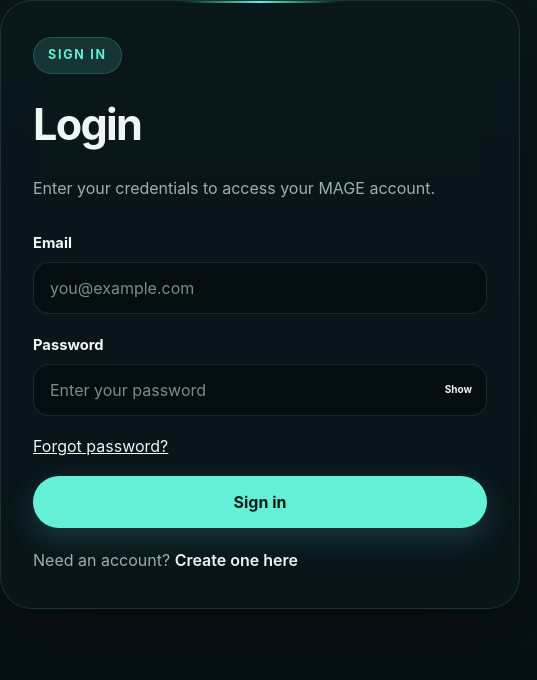
Scenario: LoginPage › shows backend invalid-credential errors clearly to the user
In the field labelled "Email": (260, 288) [33,262,487,314], type " user@example.com "
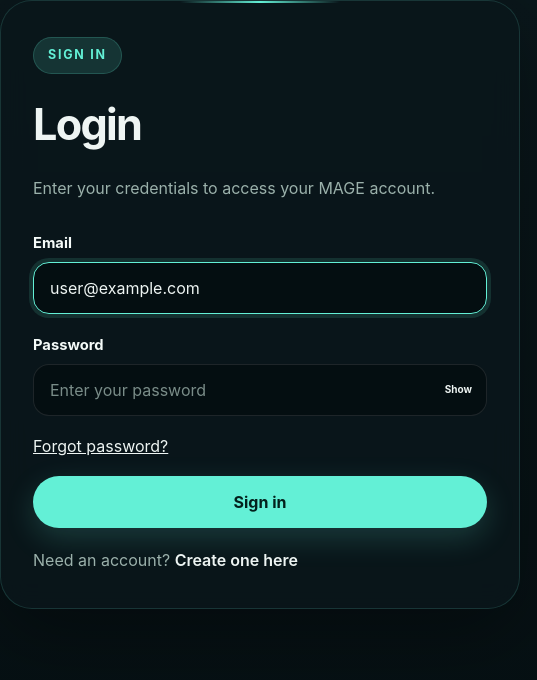
In the password field labelled "Password": (260, 390) [33,364,487,416], type "secret-value"
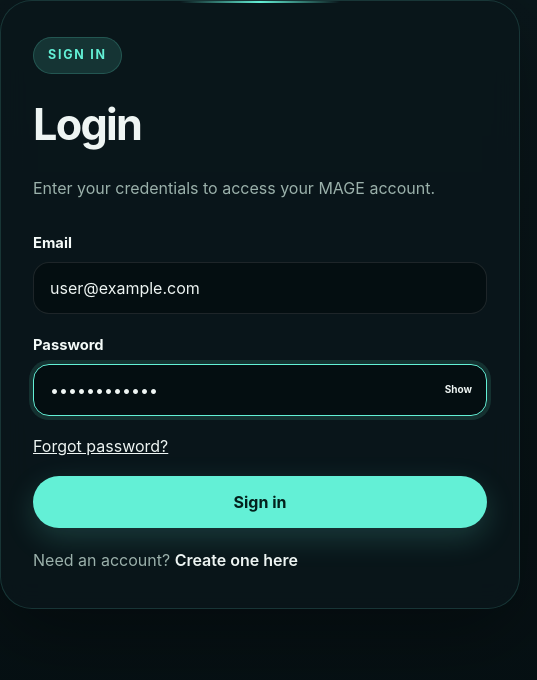
Click the button "Sign in": (260, 502) [33,476,487,528]
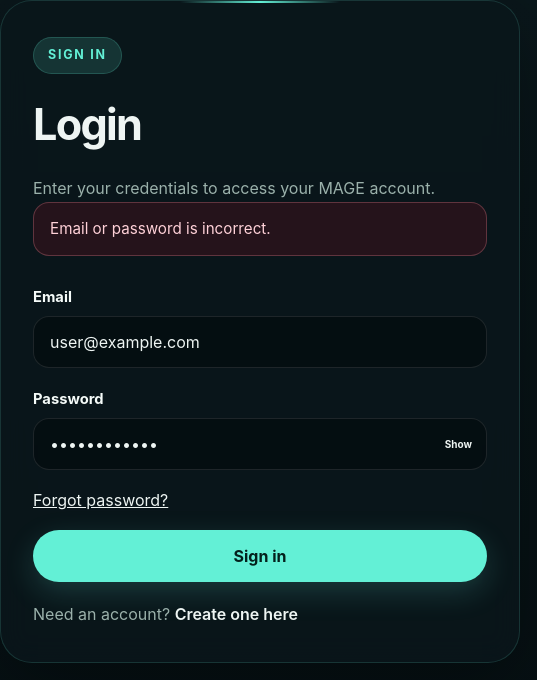
Expected: the button "Sign in" is enabled, [33,530,487,582]
Now the text "Email or password is incorrect." is shown, box [33,202,487,256]
